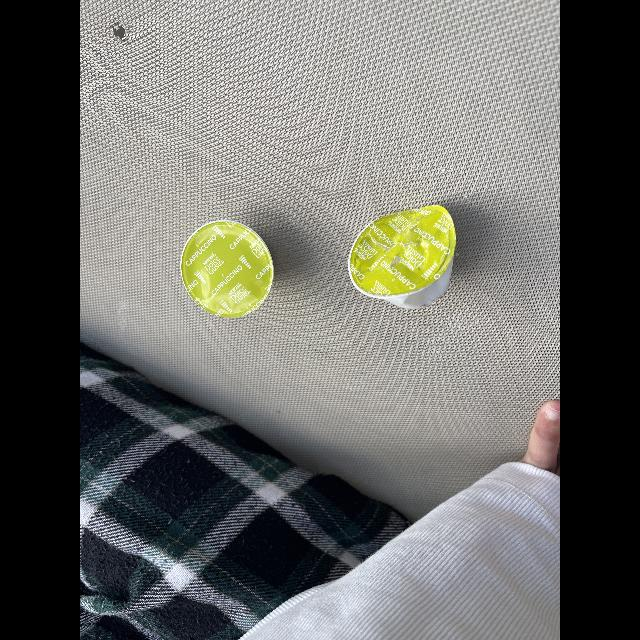damaged_capsule: (342, 202, 466, 314)
intact_capsule: (178, 216, 278, 322)
